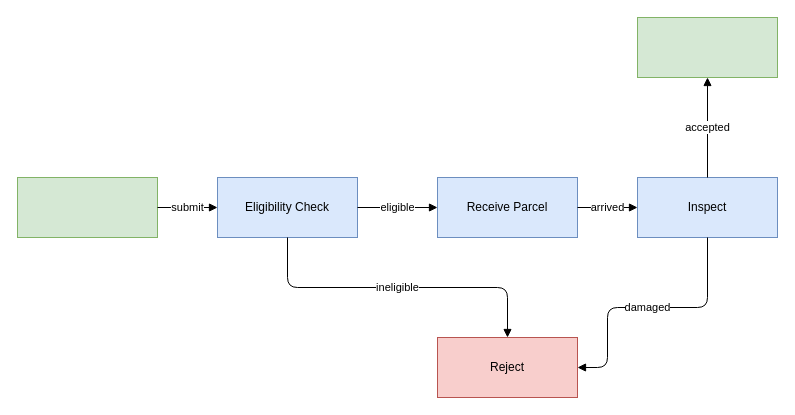
This 795x415 diagram has some shape labels left out. The shapes that lost their labels are listed below. From the top down, each one's centre as x and y in pixels, then its label:
the point at 707,47: Refund
the point at 87,207: Return Request
